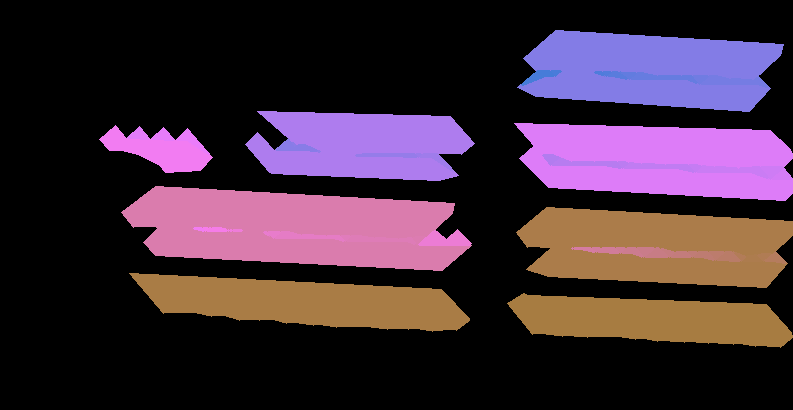parkingspot: (129, 273, 469, 331), (143, 215, 471, 270), (121, 186, 454, 239), (507, 293, 792, 347), (519, 145, 792, 200), (516, 207, 793, 256), (523, 30, 783, 80), (517, 60, 770, 111), (514, 123, 793, 168), (526, 240, 787, 287), (245, 132, 458, 180), (257, 111, 474, 156), (99, 125, 212, 172)
